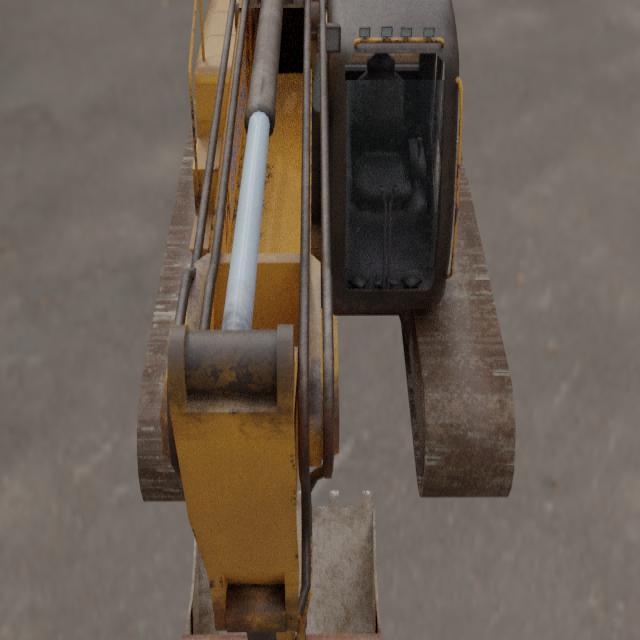excavator: (136, 0, 516, 640)
